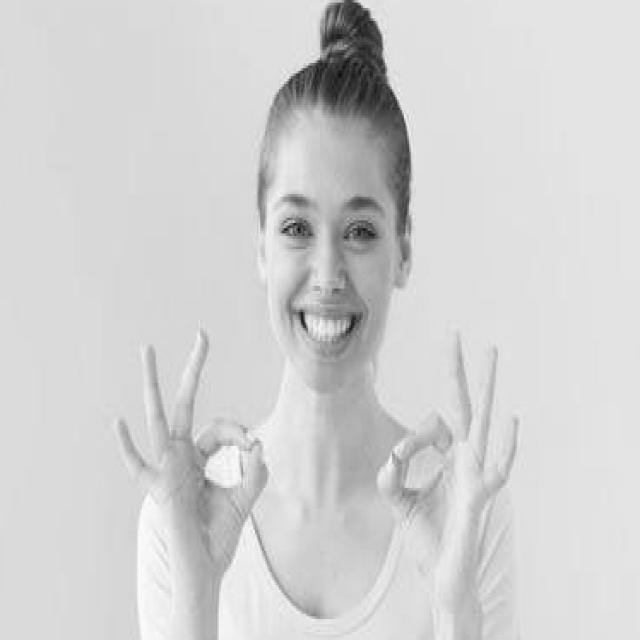perfect: (106, 320, 276, 607), (373, 320, 524, 614)
